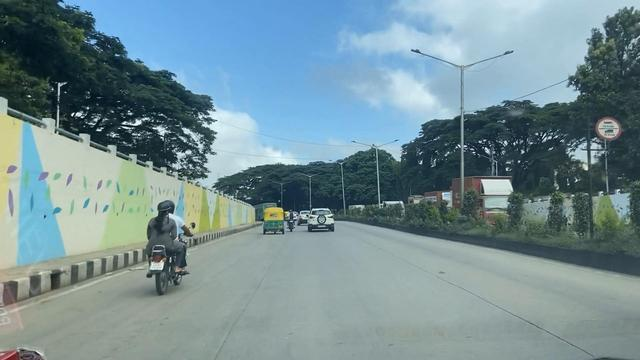LMV: (151, 205, 183, 292), (264, 208, 284, 233), (309, 210, 332, 231)
